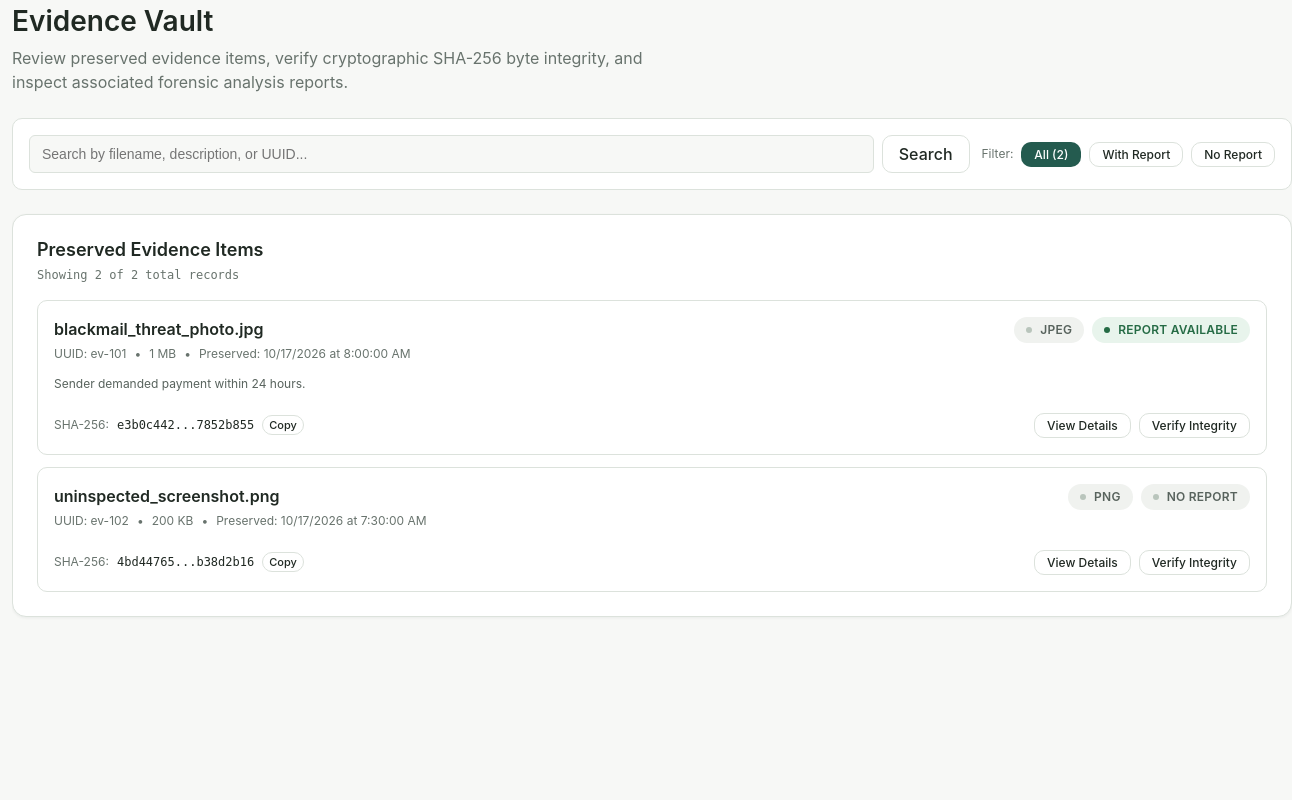
Scenario: EvidenceVault Feature Component › performs real-time cryptographic integrity check
Check: the heading "blackmail_threat_photo.jpg" is shown, box top-left (54, 318), bottom-right (264, 338)
Click the button with aria-label "Verify integrity of blackmail_threat_photo.jpg" at [1194, 425], box top-left (1139, 412), bottom-right (1250, 438)
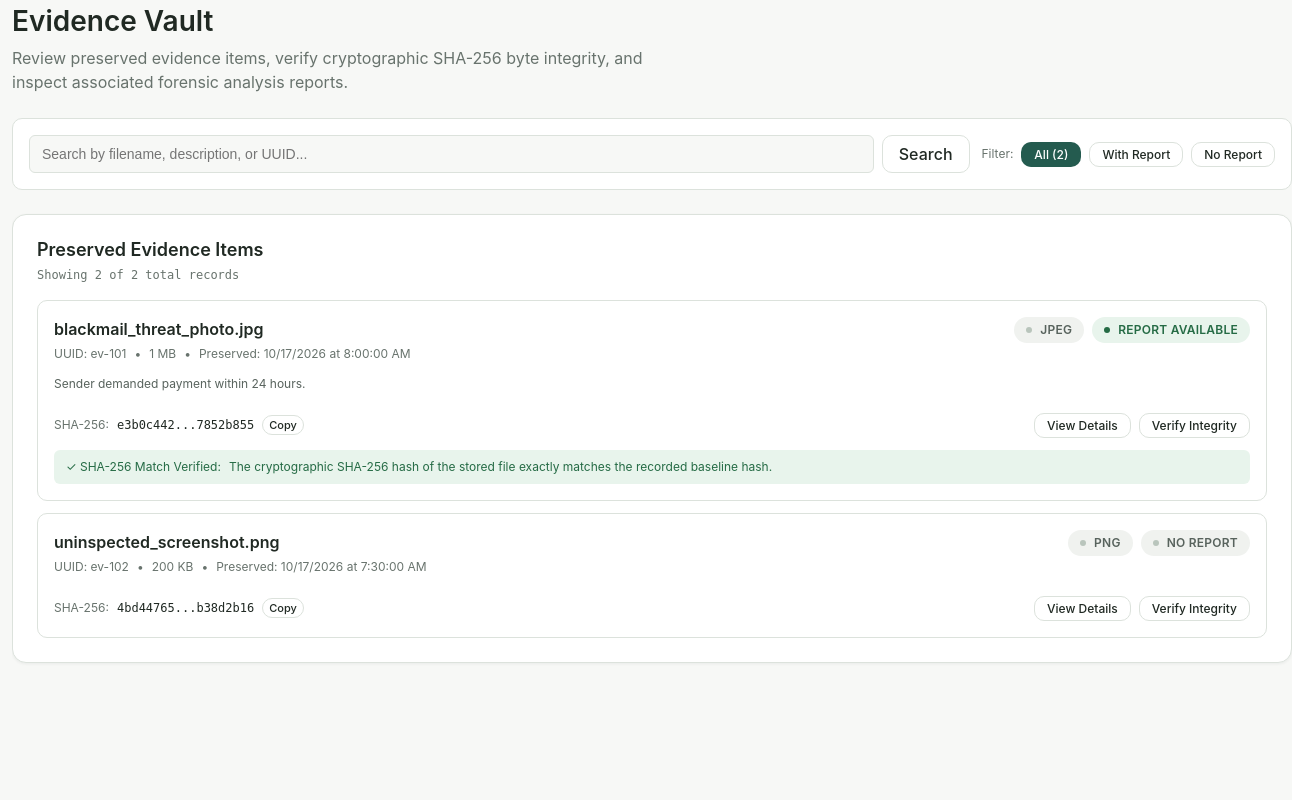
Check: the text "✓ SHA-256 Match Verified:" is shown, box top-left (66, 458), bottom-right (221, 476)
Check: the text "The cryptographic SHA-256 hash of the stored file exactly matches" is shown, box top-left (229, 458), bottom-right (772, 474)
